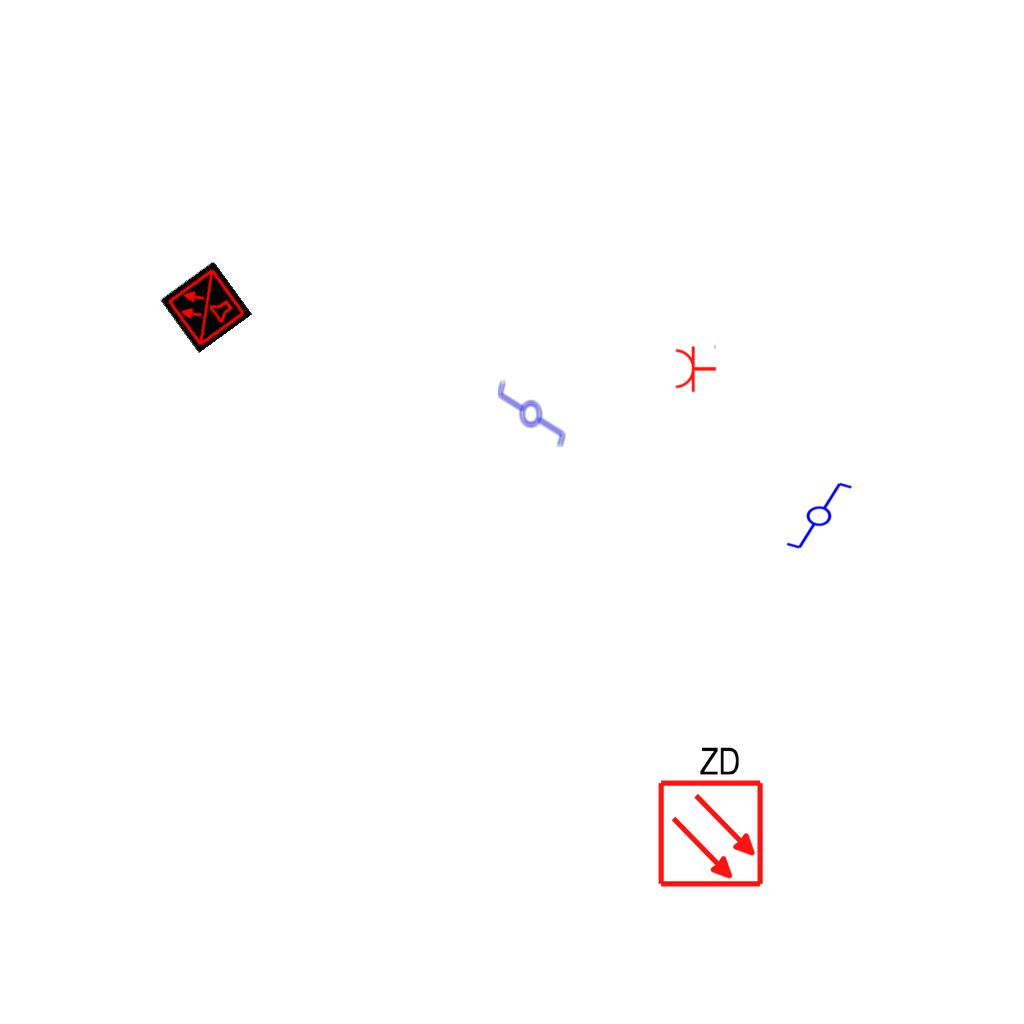OKW_Multisensormelder_(Kombination_optischer_Rauch-Kahlenmonoxid_Waerme-Melder): (159, 260, 253, 354)
Schukosteckdose_einfach: (674, 343, 717, 393)
Wechselschalter: (496, 371, 568, 449), (776, 479, 854, 551)
ZD_Melder_in_Zwischendecke_mit_Revisionsoeffnung_mind_40_x_40_cm: (652, 740, 766, 889)
